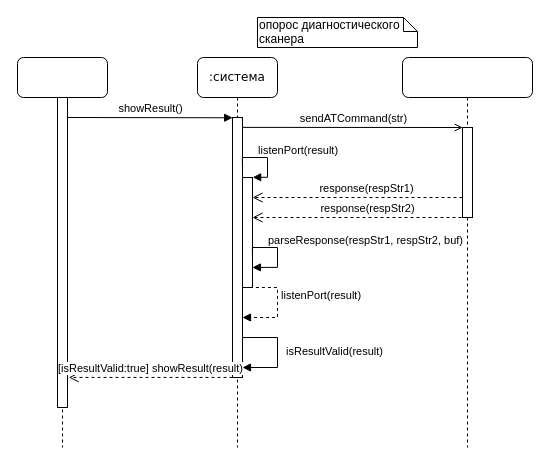
Image size: 550x465. Some labels were removed from this diagram. Each missing label, with the box of its shape:
:диагностический сканер: (402, 56, 532, 448)
:пользователь: (16, 56, 108, 448)
